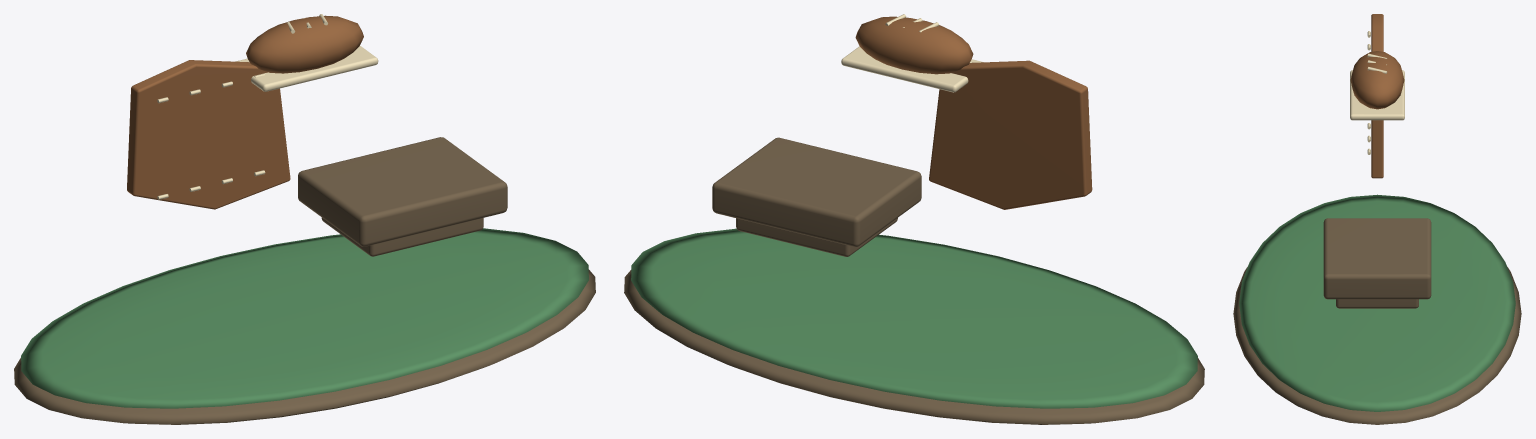
The model's file is complete-second-leather-earth-shoe.glb.
The picture shows the model from 3 angles, left to right: view 1: azimuth 30°, elevation 25°; view 2: azimuth 150°, elevation 25°; view 3: azimuth 270°, elevation 25°; orthographic projection. The views are drawn at different scales.
Visible parts, largest first — view 1: complete-second-leather-earth-shoe_surface_01, complete-second-leather-earth-shoe_surface_00, complete-second-leather-earth-shoe_surface_02, complete-second-leather-earth-shoe_surface_03; view 2: complete-second-leather-earth-shoe_surface_01, complete-second-leather-earth-shoe_surface_00, complete-second-leather-earth-shoe_surface_02, complete-second-leather-earth-shoe_surface_03; view 3: complete-second-leather-earth-shoe_surface_01, complete-second-leather-earth-shoe_surface_00, complete-second-leather-earth-shoe_surface_02, complete-second-leather-earth-shoe_surface_03.
Part boxes in pixels (x1,y1,x2,y2): complete-second-leather-earth-shoe_surface_01: (21, 228, 588, 408); complete-second-leather-earth-shoe_surface_00: (14, 137, 595, 424); complete-second-leather-earth-shoe_surface_02: (127, 15, 363, 209); complete-second-leather-earth-shoe_surface_03: (157, 14, 378, 199); complete-second-leather-earth-shoe_surface_01: (631, 228, 1197, 408); complete-second-leather-earth-shoe_surface_00: (624, 137, 1204, 424); complete-second-leather-earth-shoe_surface_02: (855, 16, 1092, 209); complete-second-leather-earth-shoe_surface_03: (841, 14, 983, 92); complete-second-leather-earth-shoe_surface_01: (1239, 194, 1515, 411); complete-second-leather-earth-shoe_surface_00: (1233, 218, 1521, 424); complete-second-leather-earth-shoe_surface_02: (1350, 14, 1404, 178); complete-second-leather-earth-shoe_surface_03: (1350, 31, 1404, 154).
Bounding box in the file's own units: 4.56 × 2.55 × 2.5.
